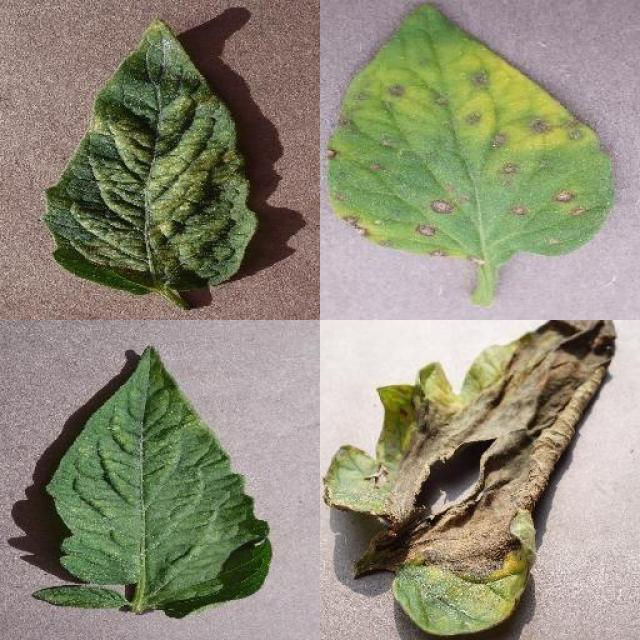Late Blight: (322, 320, 618, 640)
Septoria: (332, 5, 616, 257)
